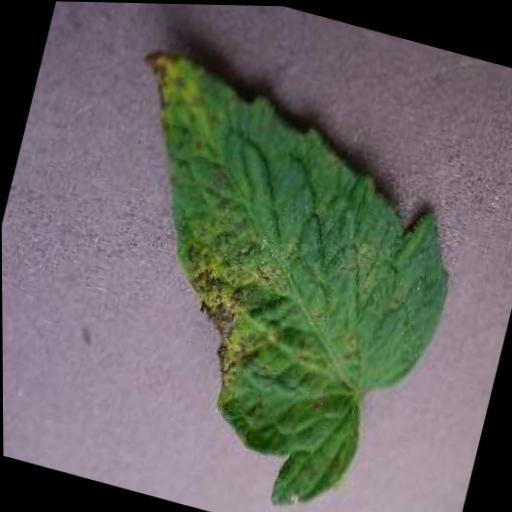Septoria: (44, 41, 489, 512)
